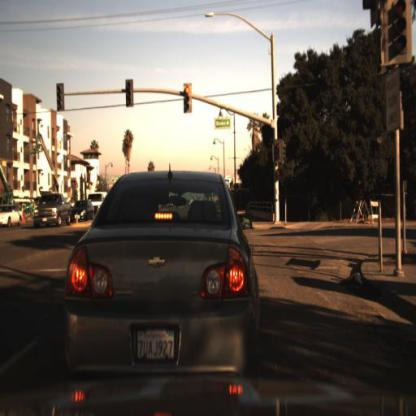car: (63, 170, 263, 388), (34, 193, 74, 228), (70, 200, 97, 225), (1, 204, 26, 230), (92, 190, 106, 219)
trafficLight: (388, 1, 406, 56), (184, 82, 194, 116)
trafficLight-Red: (275, 135, 284, 164), (125, 79, 134, 103), (277, 139, 282, 155)
